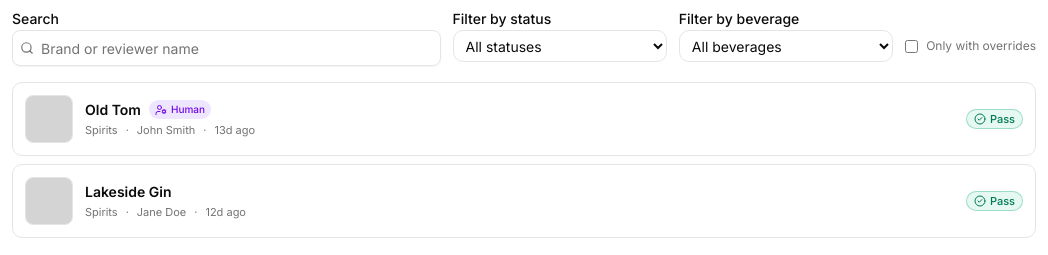
ReviewHistoryList › filters by brand search (case-insensitive)
Type "lakeside" into the field labelled "Search".
click(226, 48); type("lakeside")  # box [12,30,441,66]
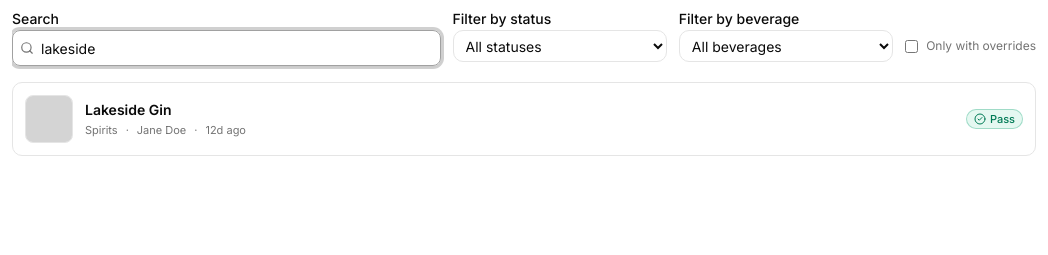
Expected: the link "Lakeside Gin" is shown, [85,100,172,120]
Now the number of list items with test id "review-history-row" is 1, box [12,82,1036,156]
